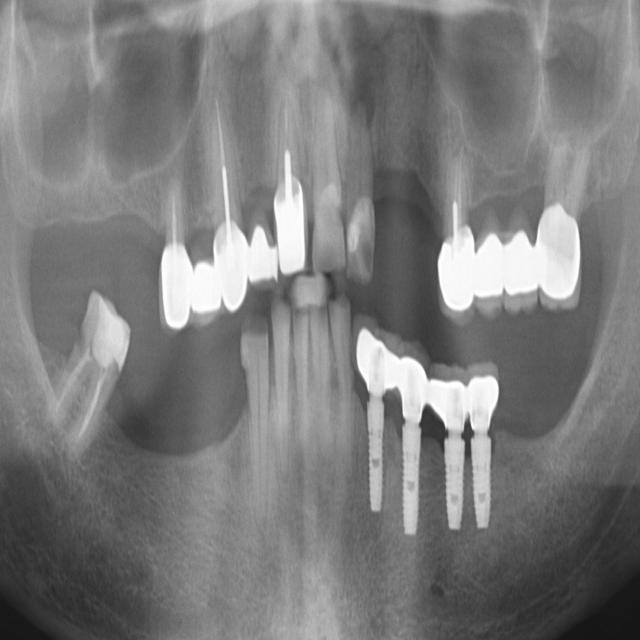infected-teeth: (45, 291, 132, 473), (206, 78, 252, 317), (436, 121, 476, 326), (271, 72, 309, 281), (157, 133, 191, 339)
